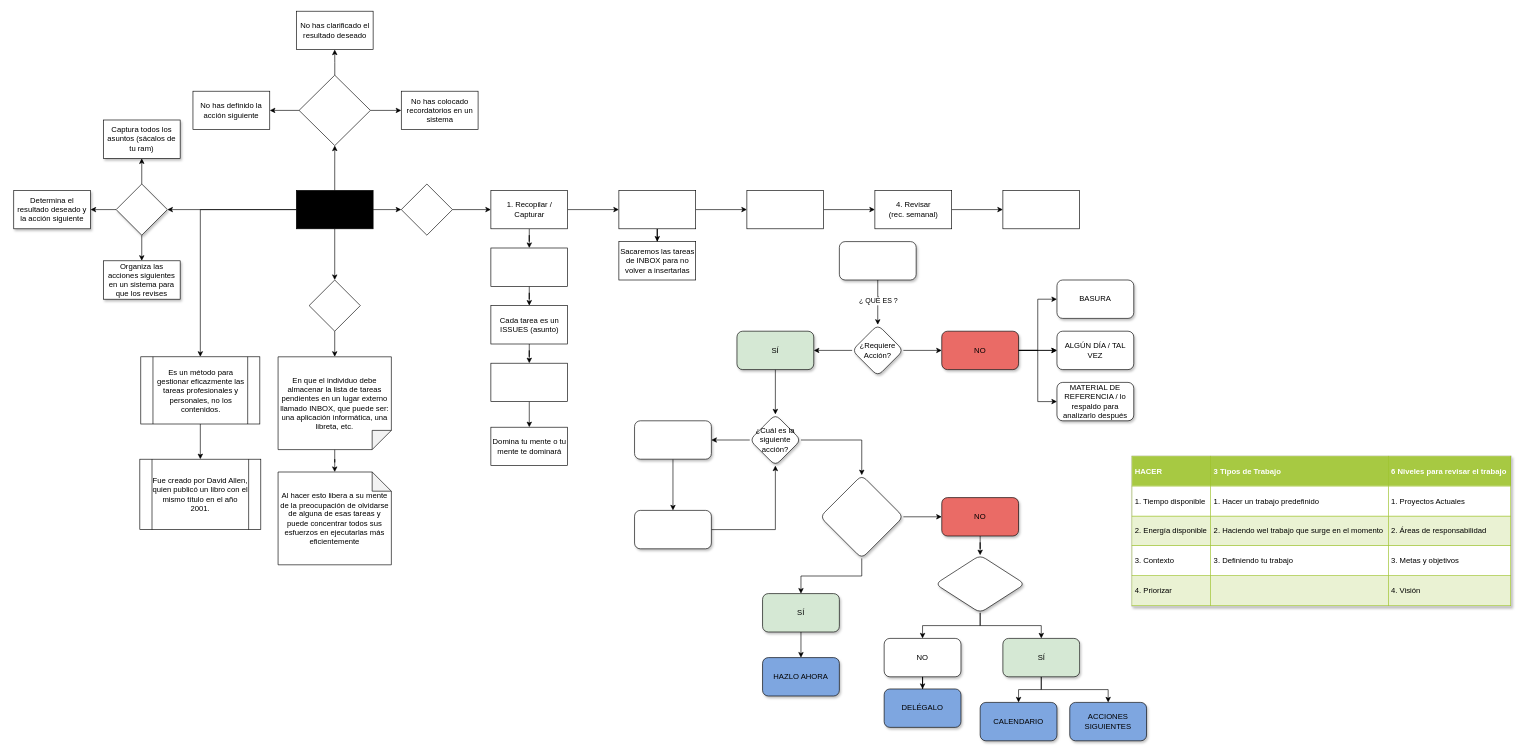
Some shapes in this 1526 by 756 pixel diagram are drawn without their labels. Each missing label, with the centre of its shape:
"2. Procesar" goes at [657,209].
"3 Principios del método" goes at [142,210].
"3. Organizar" goes at [785,209].
"5. Hacer" goes at [1041,209].
"ACCIÓN DEL PROYECTO" goes at [673,530].
"Asunto" goes at [878,261].
"Cómo funciona?" goes at [426,209].
"En Qué consiste?" goes at [334,305].
"Método GTD Getting Things Done" goes at [334,209].
"Poner todas las tareas de nuestra mente en un INBOX" goes at [529,266].
"PRYECTOS (planificar)" goes at [673,441].
"Tu mente es como la memoria RAM - Todo en tu mente la hará explotar" goes at [529,382].
"¿Eres la persona indicada?" goes at [980,584].
"¿Llevará dos minutos realizarlo?" goes at [862,517].
"¿Por qué los asuntos no avanzan?" goes at [334,110].
